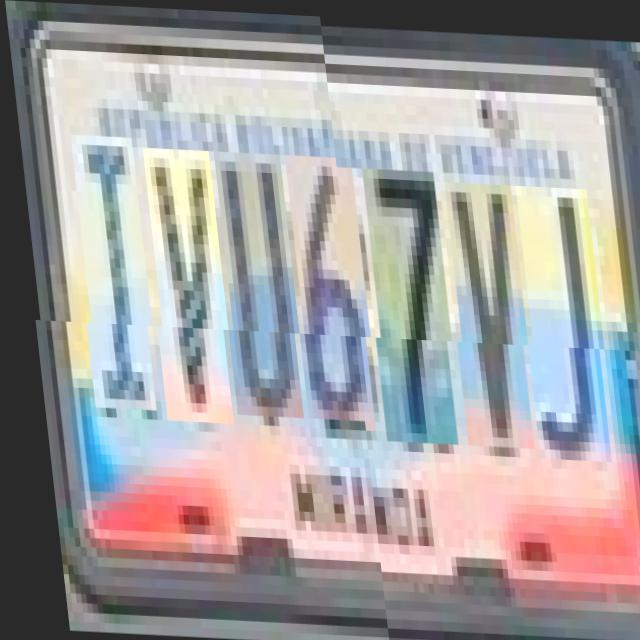6: (282, 162, 371, 428)
7: (358, 164, 454, 440)
I: (68, 144, 154, 418)
J: (512, 180, 607, 456)
U: (211, 159, 300, 425)
V: (140, 156, 230, 432), (440, 178, 530, 444)
